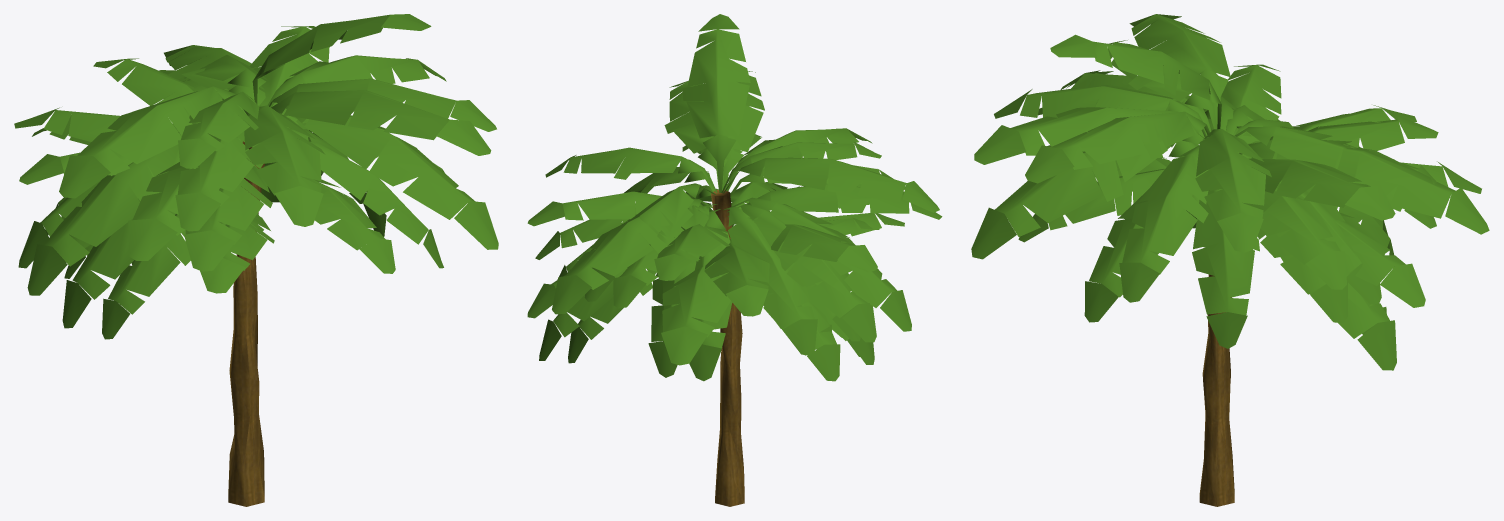
Rendered from BananaTree_3darcstudiotree_tree42.fbx.
The picture shows the model from 3 angles, left to right: view 1: azimuth 30°, elevation 25°; view 2: azimuth 150°, elevation 25°; view 3: azimuth 270°, elevation 25°; orthographic projection. The views are drawn at different scales.
Visible parts, largest first — view 1: leaf34_37, stemslevel0, leaf34_29, leaf34_40, leaf34_26, leaf34_36, leaf34_32, leaf34_11, leaf34_23, leaf34_9, leaf34_15, leaf34_41 (+14 smaller); view 2: leaf34_42, stemslevel0, leaf34_21, leaf34_40, leaf34_30, leaf34_27, leaf34_3, leaf34_29, leaf34_4, leaf34_38, leaf34_15, leaf34_5 (+21 smaller); view 3: leaf34_34, leaf34_37, leaf34_38, leaf34_33, leaf34_21, leaf34_28, stemslevel0, leaf34_18, leaf34_10, leaf34_26, leaf34_42, leaf34_40 (+15 smaller).
Part boxes in pixels (box(x1,y1,x2,y2)): leaf34_37: box(286, 104, 498, 249); stemslevel0: box(228, 141, 264, 506); leaf34_29: box(27, 132, 181, 295); leaf34_40: box(59, 86, 250, 198); leaf34_26: box(271, 90, 491, 155); leaf34_36: box(243, 105, 325, 226); leaf34_32: box(175, 115, 262, 231); leaf34_11: box(184, 159, 272, 271); leaf34_23: box(306, 141, 443, 268); leaf34_9: box(102, 214, 190, 339); leaf34_15: box(128, 152, 246, 260); leaf34_41: box(178, 91, 259, 168); leaf34_42: box(682, 14, 750, 192); stemslevel0: box(711, 189, 744, 506); leaf34_21: box(552, 198, 706, 314); leaf34_40: box(723, 157, 939, 212); leaf34_30: box(723, 206, 817, 355); leaf34_27: box(727, 204, 876, 342); leaf34_3: box(661, 267, 730, 365); leaf34_29: box(728, 197, 911, 331); leaf34_4: box(704, 239, 769, 316); leaf34_38: box(545, 147, 717, 192); leaf34_15: box(732, 183, 942, 226); leaf34_5: box(771, 224, 877, 272); leaf34_34: box(1119, 145, 1208, 302); leaf34_37: box(971, 133, 1203, 259); leaf34_38: box(1195, 129, 1271, 252); leaf34_33: box(1025, 111, 1209, 183); leaf34_21: box(1239, 140, 1489, 234); leaf34_28: box(1192, 189, 1259, 348); stemslevel0: box(1199, 274, 1234, 506); leaf34_18: box(1242, 183, 1346, 289); leaf34_10: box(1249, 158, 1395, 220); leaf34_26: box(974, 107, 1206, 164); leaf34_42: box(1050, 34, 1221, 129); leaf34_40: box(1129, 14, 1230, 128).
Bounding box in the file's own units: 118 × 133 × 126.
